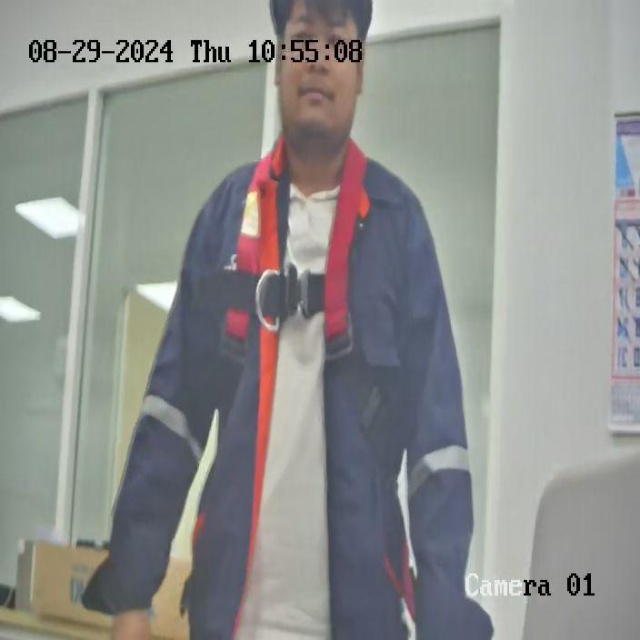Arnes_seguridad: (216, 130, 400, 465)
